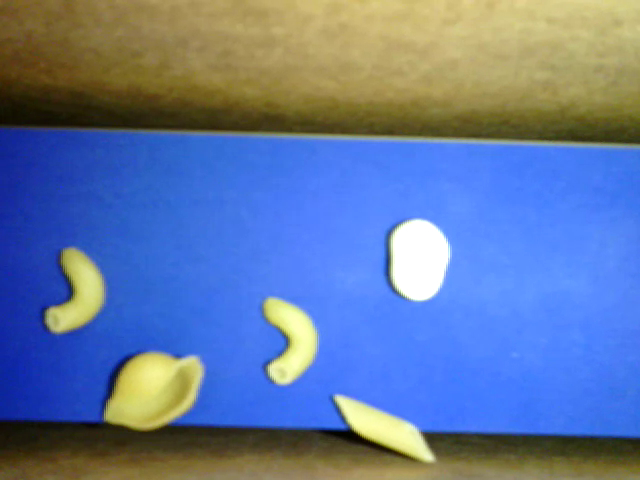elbow: (44, 247, 106, 334), (262, 296, 317, 385)
penne: (332, 393, 437, 464)
shell: (101, 350, 203, 433)
